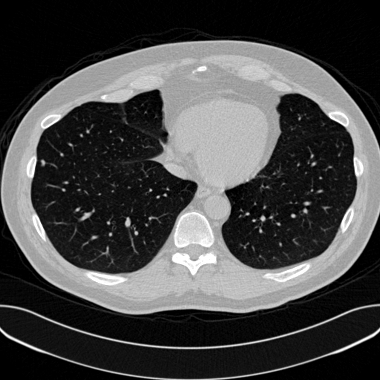nodule: (41, 161, 45, 165)
